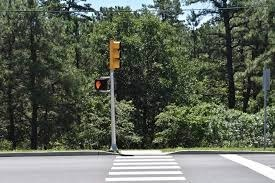pedestrian_stop: (95, 79, 107, 91)
